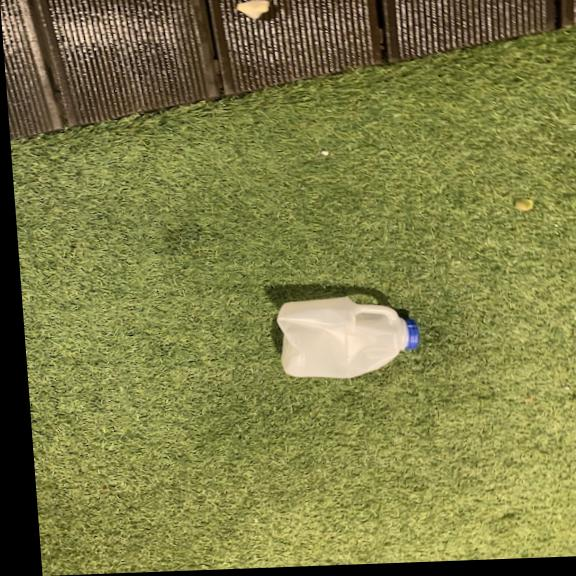Plastik: (273, 292, 427, 383)
